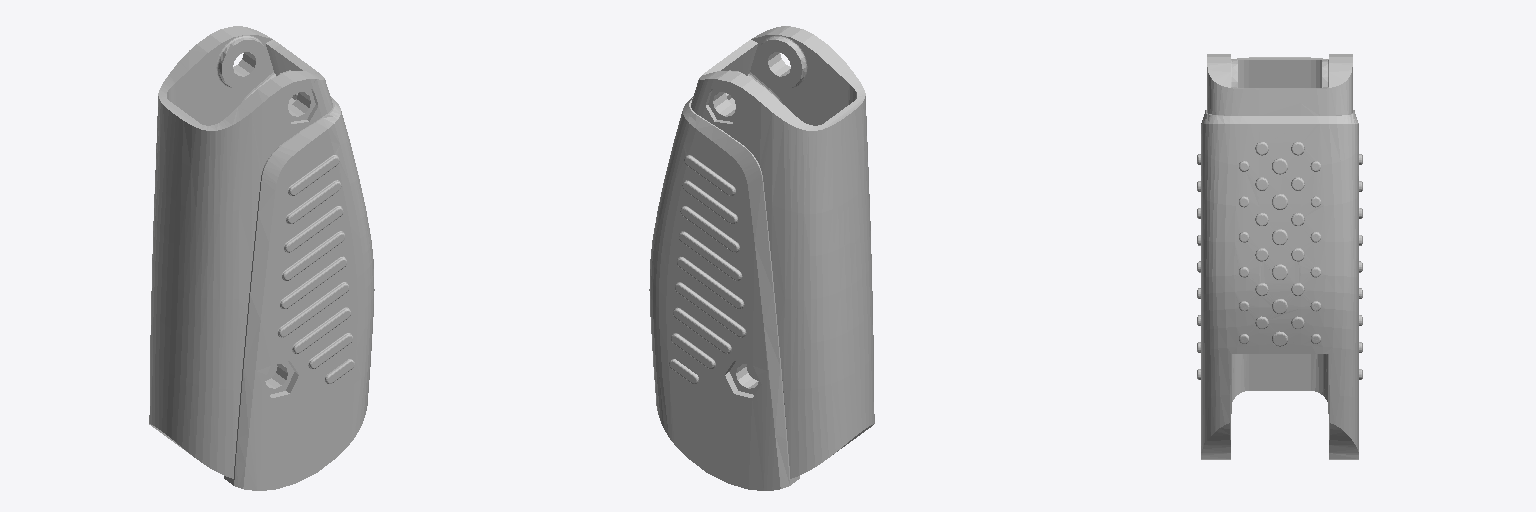
The model's file is left_ring_1_visuals.obj.
The picture shows the model from 3 angles: view 1: azimuth 30°, elevation 25°; view 2: azimuth 150°, elevation 25°; view 3: azimuth 270°, elevation 25°; orthographic projection.
Size of the model in its own units: 0.0242 by 0.0492 by 0.0184.